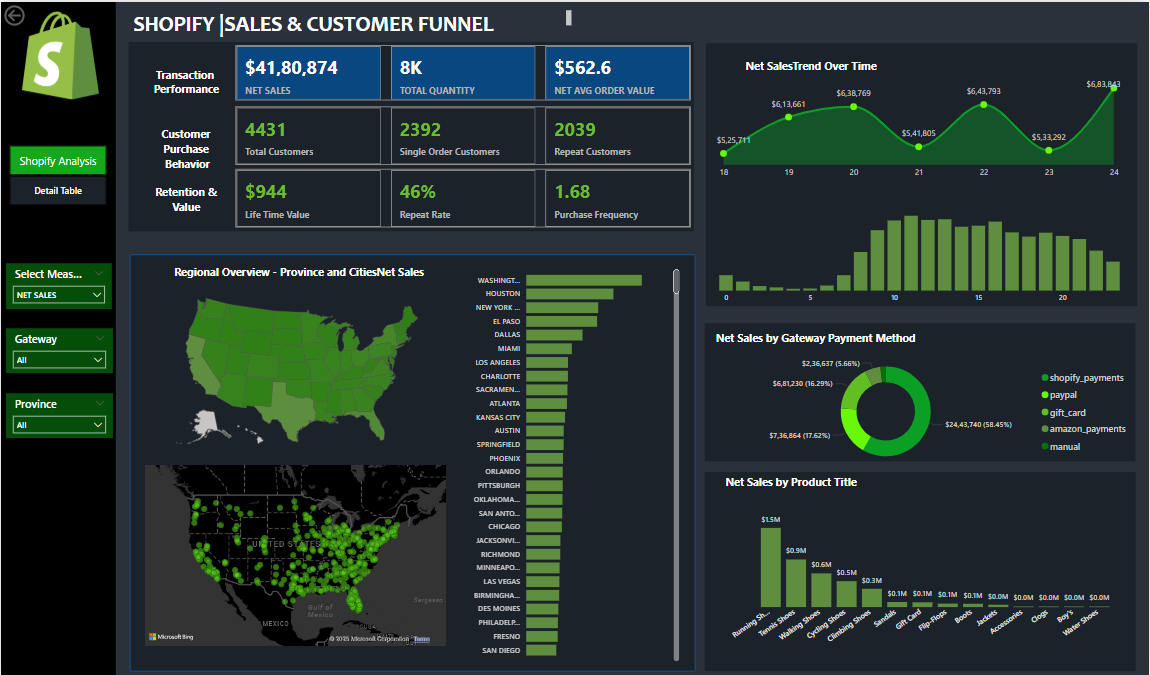

Layout of this report page (visuals, bound fields, positions):
{"tool":"powerbi","page":{"name":"Shopify Analysis","canvas":[1700,1000],"ordinal":0},"visuals":[{"type":"shape","box":[0,0,170,1000.5],"z":0},{"type":"shape","box":[188,59.3,838,280.6],"z":1000},{"type":"cardVisual","fields":{"Data":["shopify_sales.NET SALES","shopify_sales.TOTAL QUANTITY","shopify_sales.NET AVG ORDER VALUE"]},"box":[343.3,60,685,91.7],"z":2000},{"type":"card","fields":{"Values":["shopify_sales.Transaction Perf"]},"box":[207.7,84.6,134.6,65.4],"z":3000},{"type":"cardVisual","fields":{"Data":["shopify_sales.Total Customers","shopify_sales.Single Order Customers","shopify_sales.Repeat Customers"]},"box":[343.3,150,685,96.7],"z":4000},{"type":"card","fields":{"Values":["shopify_sales.MeasureCustomer Purchase Behavior"]},"box":[208.3,171.3,134.3,84.3],"z":5000},{"type":"cardVisual","fields":{"Data":["shopify_sales.Life Time Value","shopify_sales.Repeat Rate","shopify_sales.Purchase Frequency"]},"box":[341.7,243.3,685,96.7],"z":6000},{"type":"card","fields":{"Values":["shopify_sales.Retention & Value"]},"box":[208.3,250,135,83.3],"z":7000},{"type":"shape","box":[189.8,373.2,838.1,617.7],"z":8000},{"type":"shapeMap","fields":{"Value":["shopify_sales.NET SALES"],"Category":["shopify_sales.Billing Address Province"]},"box":[210.7,421.5,455.2,249.3],"z":9000},{"type":"slicer","fields":{"Values":["Select Measures.Select Measures"]},"box":[6.7,386.7,156.7,68.3],"z":10000},{"type":"map","fields":{"Category":["shopify_sales.Location"]},"box":[209.1,682.1,455.2,278.3],"z":11000},{"type":"actionButton","box":[0,0,100,40],"z":12000},{"type":"barChart","fields":{"Y":["shopify_sales.NET SALES"],"Category":["shopify_sales.CITY"]},"box":[683.7,382.9,326.6,598.4],"z":13000},{"type":"card","fields":{"Values":["shopify_sales.Map Title"]},"box":[200,383.3,483.3,38.3],"z":14000},{"type":"shape","box":[1044.1,61,639,389.8],"z":15000},{"type":"columnChart","fields":{"Y":["shopify_sales.NET SALES"],"Category":["shopify_sales.Hour"]},"box":[1060,273.3,603.3,181.7],"z":16000},{"type":"areaChart","fields":{"Y":["shopify_sales.NET SALES"],"Category":["shopify_sales.Invoice Date.Variation.Date Hierarchy.Day"]},"box":[1055,103.3,608.3,166.7],"z":17000},{"type":"card","fields":{"Values":["shopify_sales.Trend TItle"]},"box":[1060,78.3,281.7,38.3],"z":18000},{"type":"shape","box":[1043.3,476.7,638,205],"z":19000},{"type":"donutChart","fields":{"Y":["shopify_sales.NET SALES"],"Category":["shopify_sales.Gateway"]},"box":[1076.7,516.7,605,180],"z":20000},{"type":"card","fields":{"Values":["shopify_sales.Gateway Title"]},"box":[1053.3,713.3,388.3,33.3],"z":21000},{"type":"shape","box":[1043.3,696.7,638.3,295],"z":22000},{"type":"columnChart","fields":{"Y":["shopify_sales.NET SALES"],"Category":["shopify_sales.Product Type"]},"box":[1076.7,746.7,586.7,213.3],"z":23000},{"type":"card","fields":{"Values":["shopify_sales.Gateway Title"]},"box":[1053.3,483.3,306.7,33.3],"z":24000},{"type":"card","fields":{"Values":["shopify_sales.Product Title"]},"box":[1055,696.7,230,33.3],"z":25000},{"type":"slicer","fields":{"Values":["shopify_sales.Gateway"]},"box":[6.7,483.3,158.3,66.7],"z":26000},{"type":"slicer","title":"p","fields":{"Values":["shopify_sales.Billing Address Province"]},"box":[6.7,580,158.3,66.7],"z":27000},{"type":"image","box":[21.7,8.3,131.7,140],"z":28000},{"type":"pageNavigator","box":[13.3,213.3,143.3,88.3],"z":29000},{"type":"textbox","box":[190.7,7.4,659.3,51.9],"z":29001}]}

Visuals, with their boxes on the page's 1700x1000 design canvas (x1, y1, x2, y2). These are canvas units, not pixel positions in the 1150x675 screenshot, which may show the page scaled, cropped or inside an application window:
shape: <bbox>0, 0, 170, 1000</bbox>
shape: <bbox>188, 59, 1026, 340</bbox>
cardVisual - shopify_sales.NET SALES x shopify_sales.TOTAL QUANTITY: <bbox>343, 60, 1028, 152</bbox>
card - shopify_sales.Transaction Perf: <bbox>208, 85, 342, 150</bbox>
cardVisual - shopify_sales.Total Customers x shopify_sales.Single Order Customers: <bbox>343, 150, 1028, 247</bbox>
card - shopify_sales.MeasureCustomer Purchase Behavior: <bbox>208, 171, 343, 256</bbox>
cardVisual - shopify_sales.Life Time Value x shopify_sales.Repeat Rate: <bbox>342, 243, 1027, 340</bbox>
card - shopify_sales.Retention & Value: <bbox>208, 250, 343, 333</bbox>
shape: <bbox>190, 373, 1028, 991</bbox>
shapeMap - shopify_sales.NET SALES x shopify_sales.Billing Address Province: <bbox>211, 422, 666, 671</bbox>
slicer - Select Measures.Select Measures: <bbox>7, 387, 163, 455</bbox>
map - shopify_sales.Location: <bbox>209, 682, 664, 960</bbox>
actionButton: <bbox>0, 0, 100, 40</bbox>
barChart - shopify_sales.NET SALES x shopify_sales.CITY: <bbox>684, 383, 1010, 981</bbox>
card - shopify_sales.Map Title: <bbox>200, 383, 683, 422</bbox>
shape: <bbox>1044, 61, 1683, 451</bbox>
columnChart - shopify_sales.NET SALES x shopify_sales.Hour: <bbox>1060, 273, 1663, 455</bbox>
areaChart - shopify_sales.NET SALES x shopify_sales.Invoice Date.Variation.Date Hierarchy.Day: <bbox>1055, 103, 1663, 270</bbox>
card - shopify_sales.Trend TItle: <bbox>1060, 78, 1342, 117</bbox>
shape: <bbox>1043, 477, 1681, 682</bbox>
donutChart - shopify_sales.NET SALES x shopify_sales.Gateway: <bbox>1077, 517, 1682, 697</bbox>
card - shopify_sales.Gateway Title: <bbox>1053, 713, 1442, 747</bbox>
shape: <bbox>1043, 697, 1682, 992</bbox>
columnChart - shopify_sales.NET SALES x shopify_sales.Product Type: <bbox>1077, 747, 1663, 960</bbox>
card - shopify_sales.Gateway Title: <bbox>1053, 483, 1360, 517</bbox>
card - shopify_sales.Product Title: <bbox>1055, 697, 1285, 730</bbox>
slicer - shopify_sales.Gateway: <bbox>7, 483, 165, 550</bbox>
"p" slicer: <bbox>7, 580, 165, 647</bbox>
image: <bbox>22, 8, 153, 148</bbox>
pageNavigator: <bbox>13, 213, 157, 302</bbox>
textbox: <bbox>191, 7, 850, 59</bbox>
